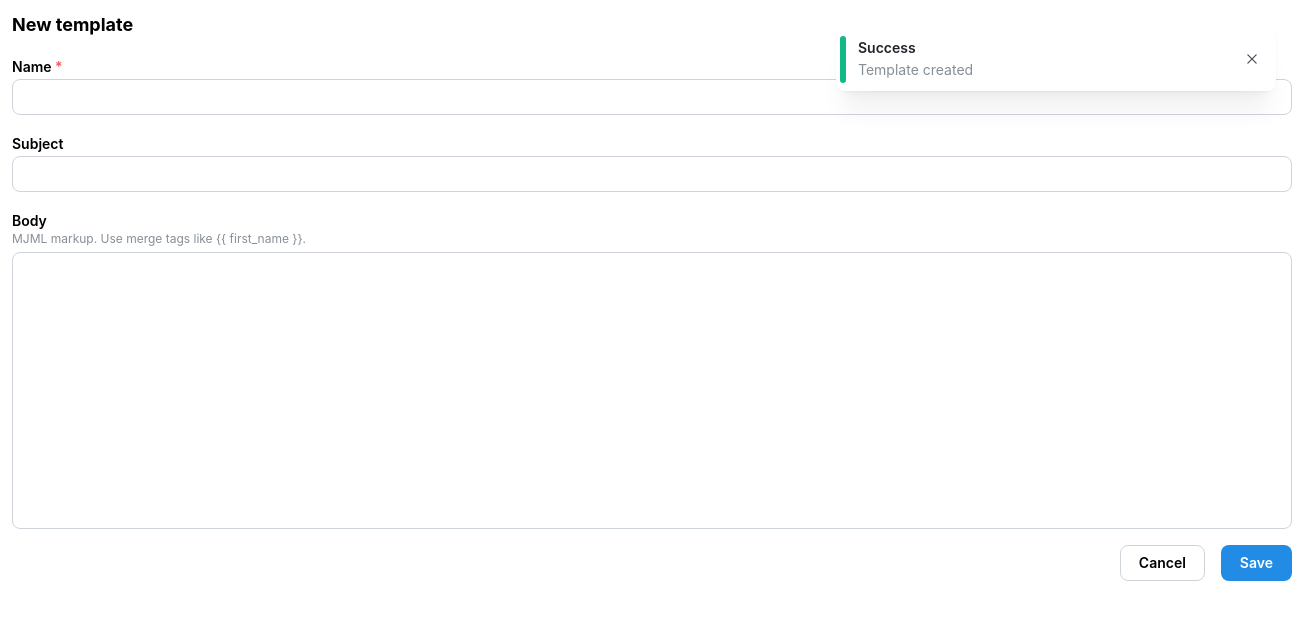
Scenario: a blank required name is rejected with a readable message before anything is sent
This screenshot has width=1304, height=621.
Click the button "Save" at (1256,563), box [1221,545,1292,581]
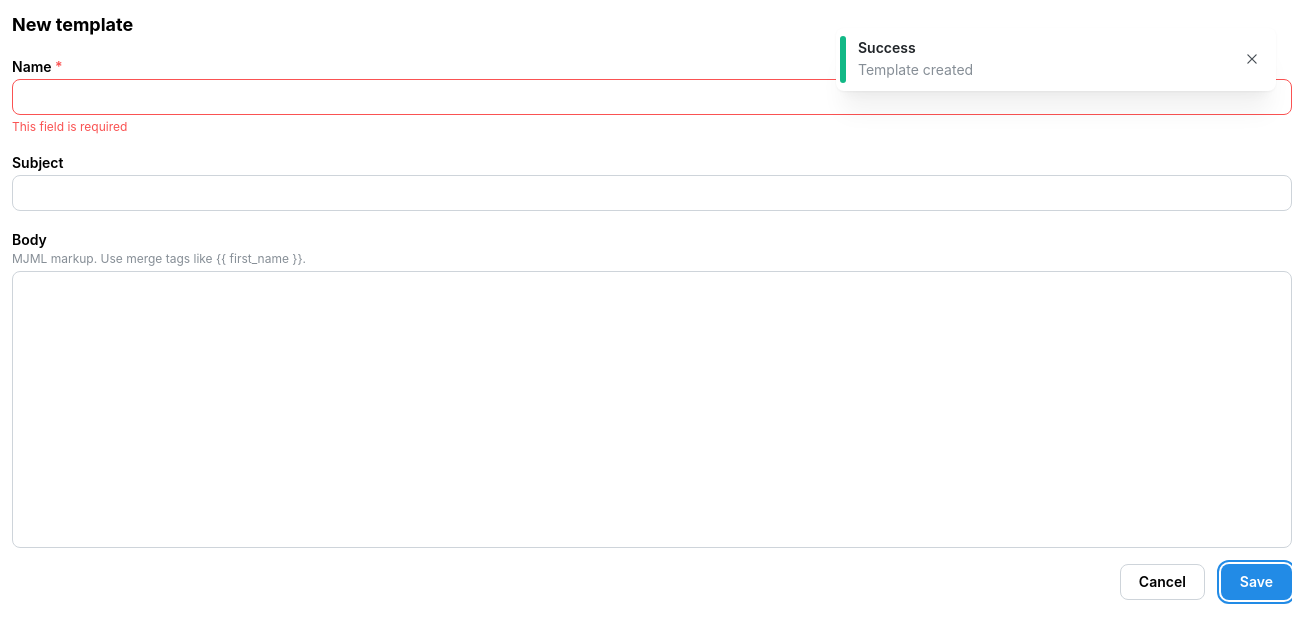
Check: the text "This field is required" is shown, box [12,119,127,134]
